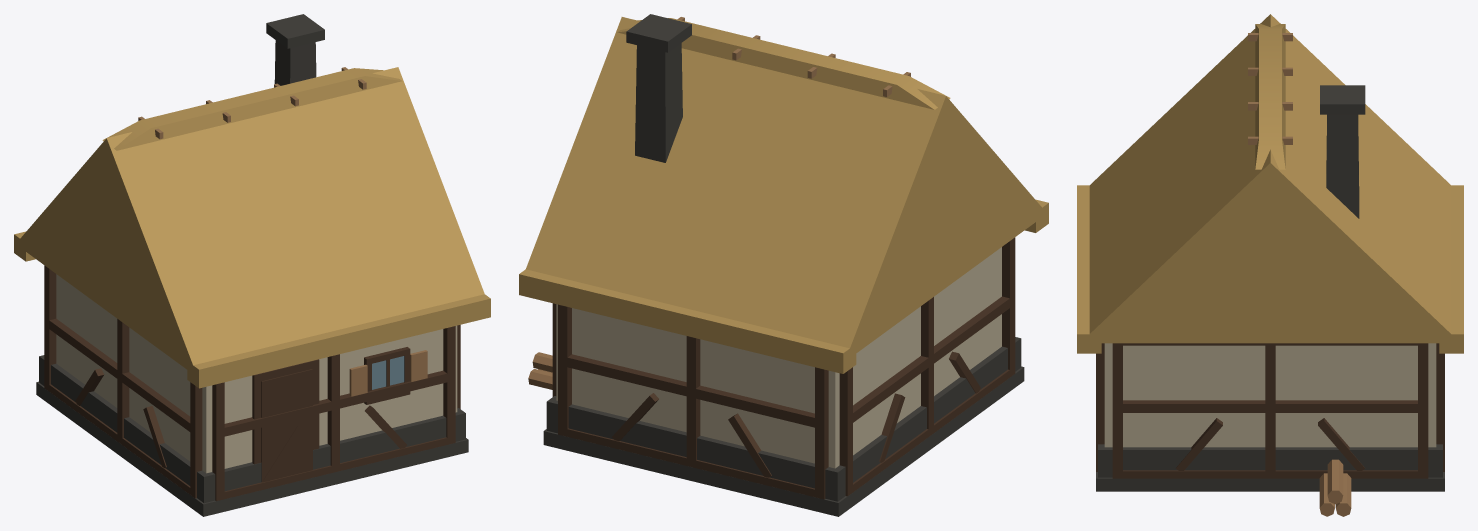
The model's file is house_hovel.glb.
3 renders of one model, left to right at view 1: azimuth 30°, elevation 25°; view 2: azimuth 150°, elevation 25°; view 3: azimuth 270°, elevation 25°, orthographic. The views are drawn at different scales.
Parts seen in each view (by area): view 1: house_hovel_lod0; view 2: house_hovel_lod0; view 3: house_hovel_lod0.
Part boxes in pixels (bbox=[...]): house_hovel_lod0: bbox=[14, 14, 490, 516]; house_hovel_lod0: bbox=[519, 14, 1048, 516]; house_hovel_lod0: bbox=[1077, 14, 1463, 516].
Size of what is drawn, in the model's own units: 5.64 by 5.64 by 5.36.
